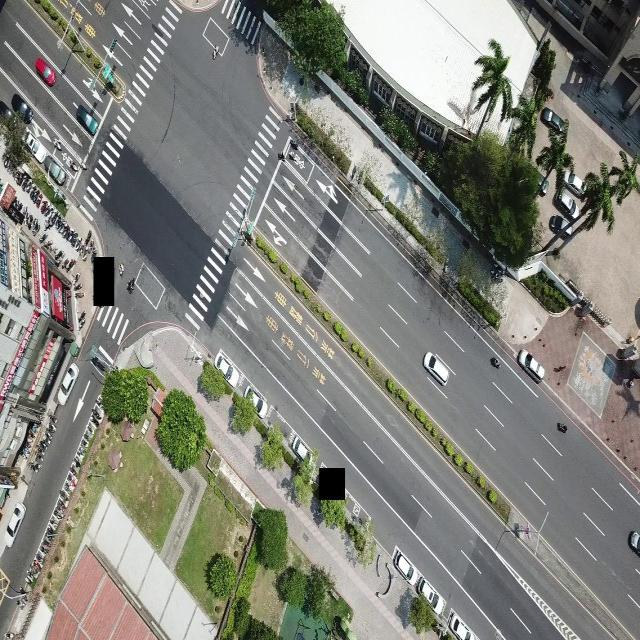bike: (552, 417, 569, 436), (490, 353, 504, 373), (210, 41, 221, 63), (54, 136, 63, 151), (276, 148, 285, 162)
car: (419, 576, 444, 618), (215, 350, 237, 393), (422, 350, 448, 386), (245, 380, 268, 418), (74, 101, 98, 137), (518, 348, 542, 382), (58, 363, 78, 403), (34, 55, 58, 87), (12, 91, 33, 123), (25, 131, 46, 162), (290, 433, 308, 469), (452, 612, 475, 640), (393, 547, 412, 580), (46, 155, 65, 186), (101, 63, 115, 91), (628, 529, 640, 557)
